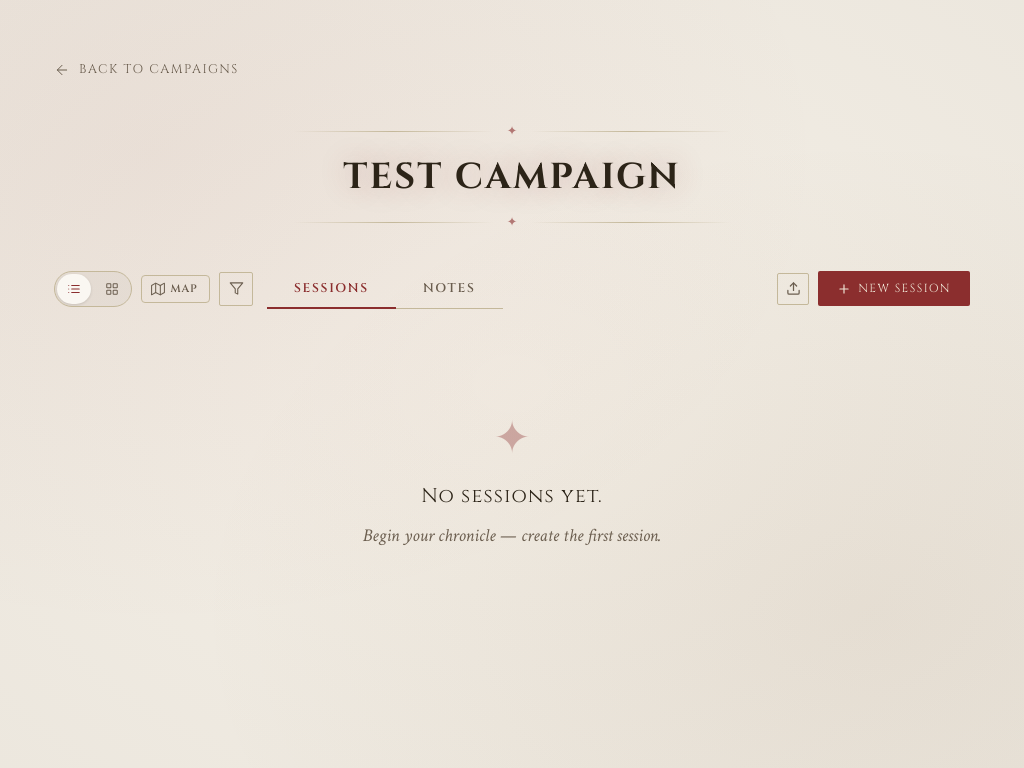
Scenario: Editor › should switch to notes tab when clicked
The width and height of the screenshot is (1024, 768).
Click the button "Notes".
click(449, 289)  # box [396,269,503,309]
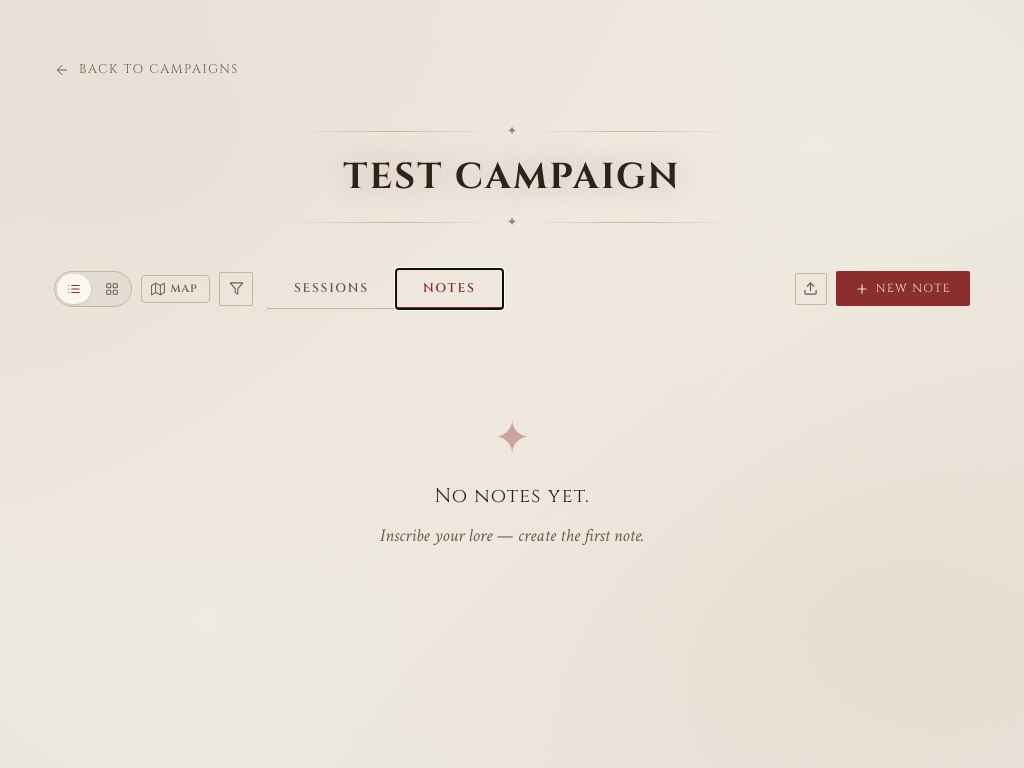
Now the button "New Note" is shown, box [836,271,970,306]
